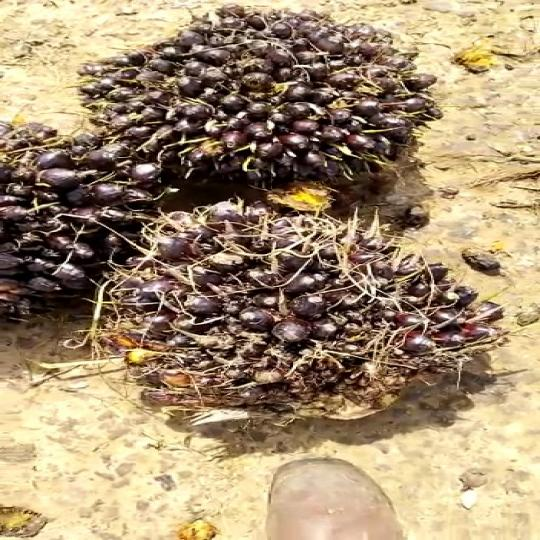mentah: (56, 185, 496, 436), (74, 0, 386, 212), (0, 105, 155, 336)
